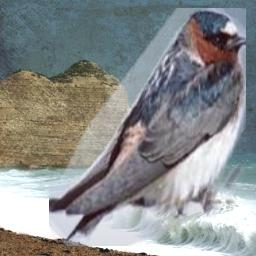Swallow: (49, 8, 246, 246)
